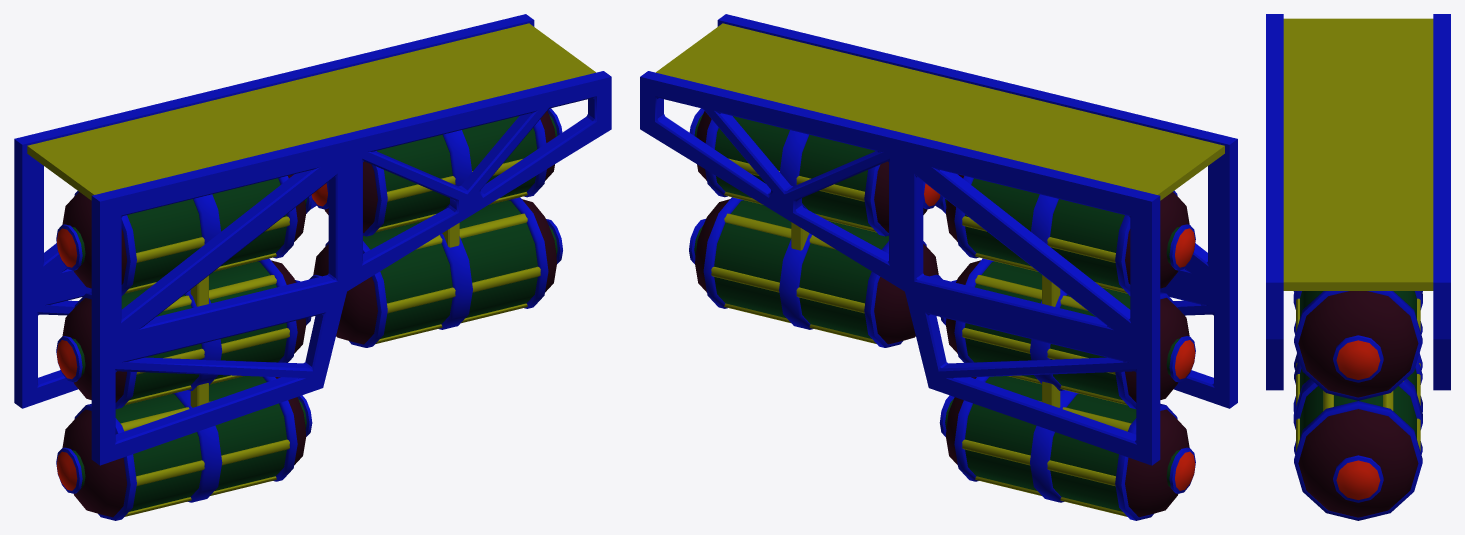
The model's file is OBJ_Armature_Corniche.fbx.
3 renders of one model, left to right at view 1: azimuth 30°, elevation 25°; view 2: azimuth 150°, elevation 25°; view 3: azimuth 270°, elevation 25°, orthographic. The views are drawn at different scales.
Visible parts, largest first — view 1: OBJ_Armature_Corniche; view 2: OBJ_Armature_Corniche; view 3: OBJ_Armature_Corniche.
Boxes of the visible parts, x1,y1,x2,y2 form: OBJ_Armature_Corniche: (14,14,611,520); OBJ_Armature_Corniche: (640,14,1237,520); OBJ_Armature_Corniche: (1266,14,1450,520).
Size of the model in its own units: 57.59 by 38.47 by 16.72.
